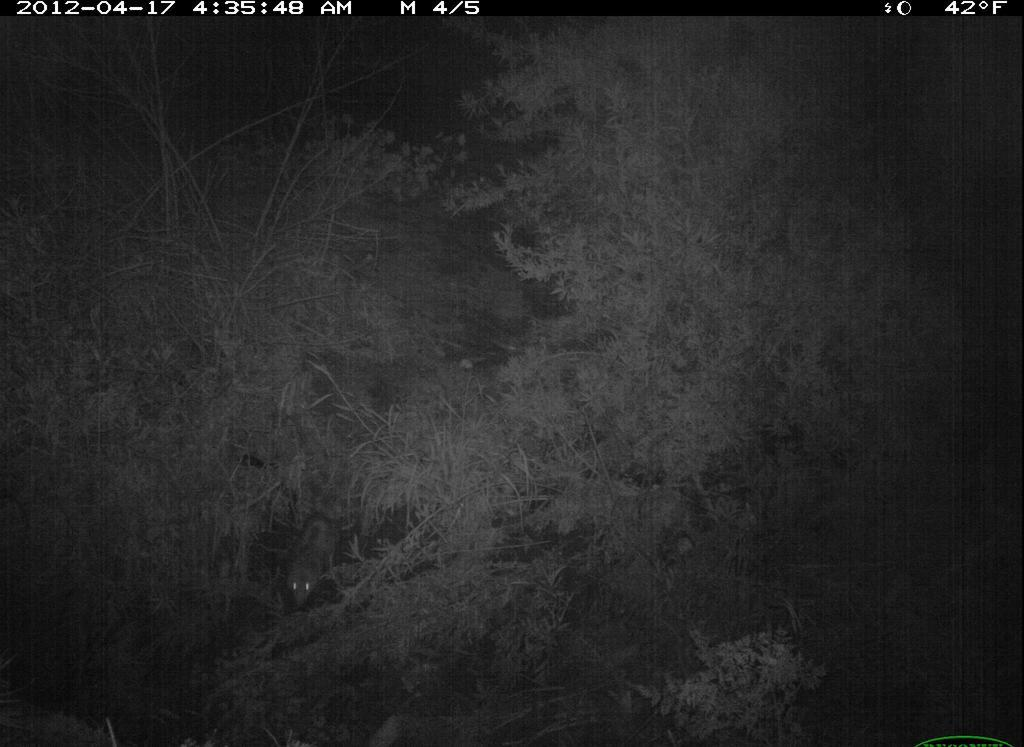opossum: (281, 507, 358, 612)
